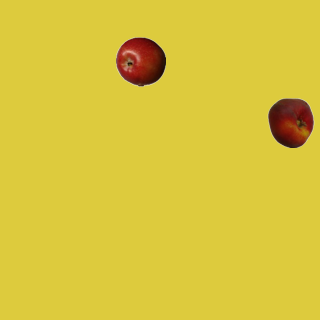Apple Braeburn: (115, 36, 165, 86)
Nectarine Flat: (265, 97, 315, 147)
